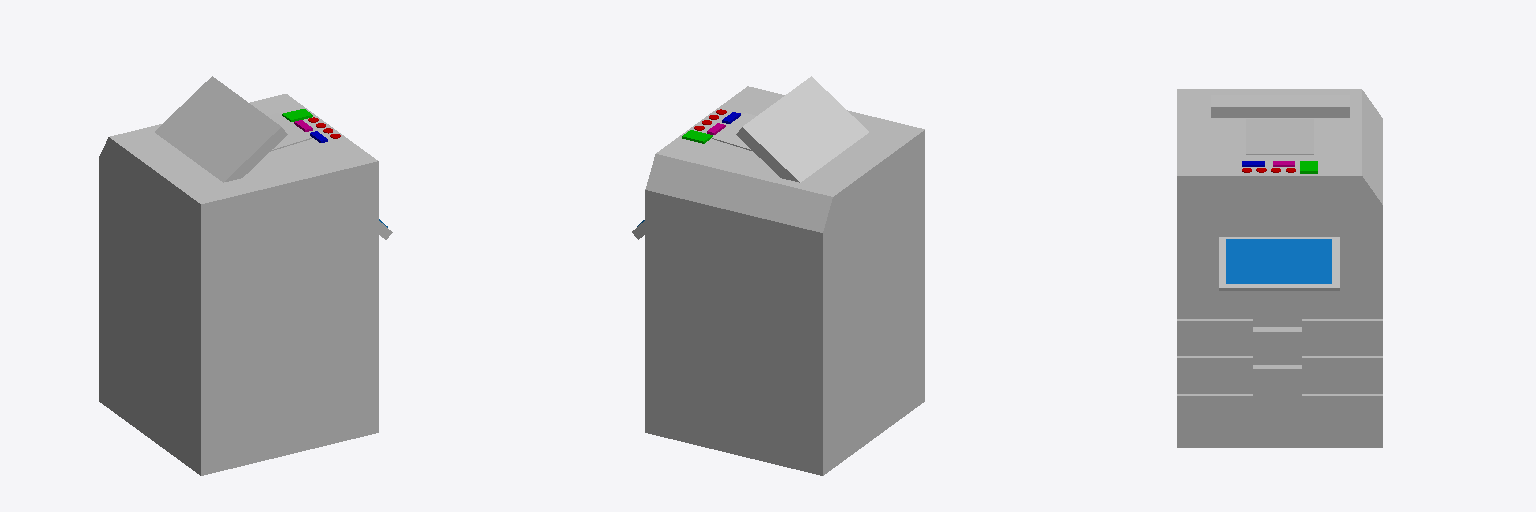
File: printer.obj
3 renders of one model, left to right at view 1: azimuth 30°, elevation 25°; view 2: azimuth 150°, elevation 25°; view 3: azimuth 270°, elevation 25°, orthographic.
Visible parts, largest first — view 1: Cube, Cube.002, Cube.003; view 2: Cube, Cube.002, Cube.003; view 3: Cube, Cube.007, Cube.002, Cube.003, Cube.001.
Boxes of the visible parts, x1=… form: Cube: x1=99, y1=94, x2=378, y2=475; Cube.002: x1=155, y1=76, x2=287, y2=182; Cube.003: x1=268, y1=113, x2=311, y2=151; Cube: x1=645, y1=86, x2=924, y2=475; Cube.002: x1=736, y1=76, x2=868, y2=182; Cube.003: x1=712, y1=113, x2=755, y2=150; Cube: x1=1177, y1=89, x2=1382, y2=447; Cube.007: x1=1226, y1=239, x2=1331, y2=283; Cube.002: x1=1211, y1=95, x2=1349, y2=117; Cube.003: x1=1246, y1=119, x2=1313, y2=154; Cube.001: x1=1219, y1=237, x2=1339, y2=290.
Size of the model in its own units: 2.39 by 3.37 by 2.